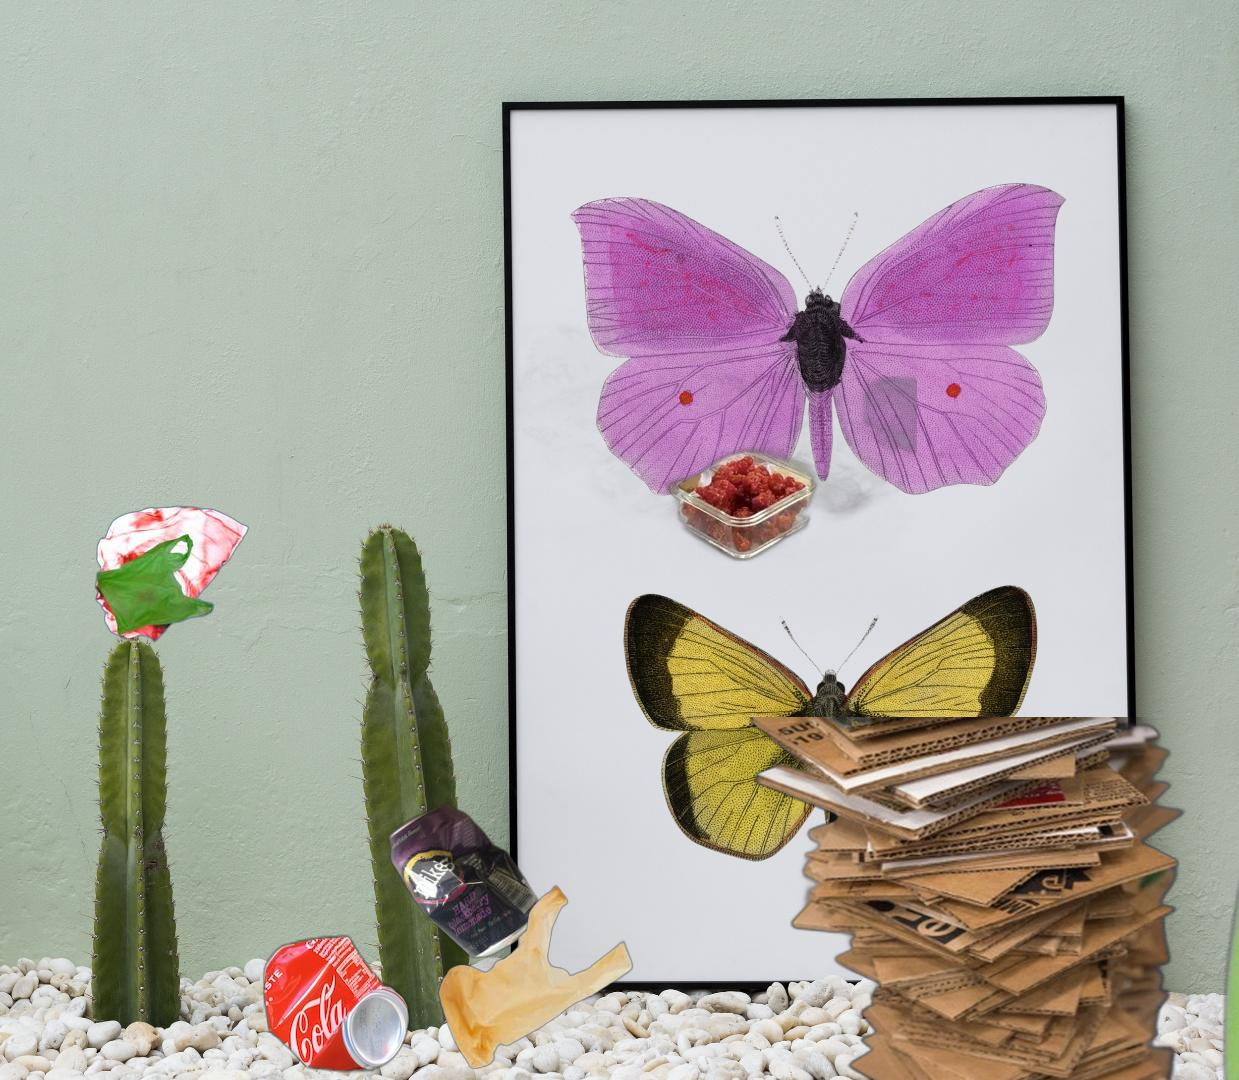biological: (517, 320, 917, 564)
metal-cans: (120, 827, 632, 1080), (383, 801, 544, 962)
penholder: (1209, 462, 1239, 1080)
plastic-bag: (436, 883, 636, 1072), (92, 505, 250, 645)
trashbox-cardboard: (743, 716, 1239, 1080)
